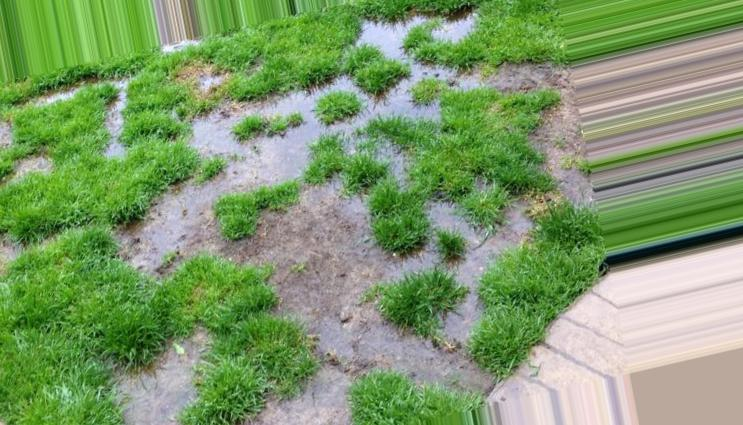patch: (260, 204, 411, 324), (500, 69, 593, 205), (100, 348, 208, 425), (251, 361, 367, 425), (206, 130, 311, 193), (361, 114, 422, 205), (89, 76, 152, 163), (363, 18, 400, 62)
